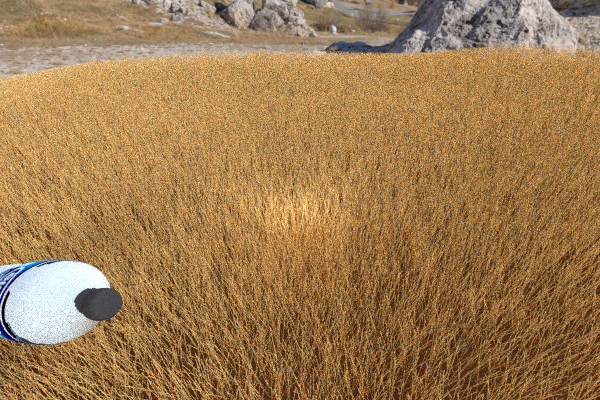bottle: (0, 259, 122, 345)
can: (0, 119, 74, 158)
